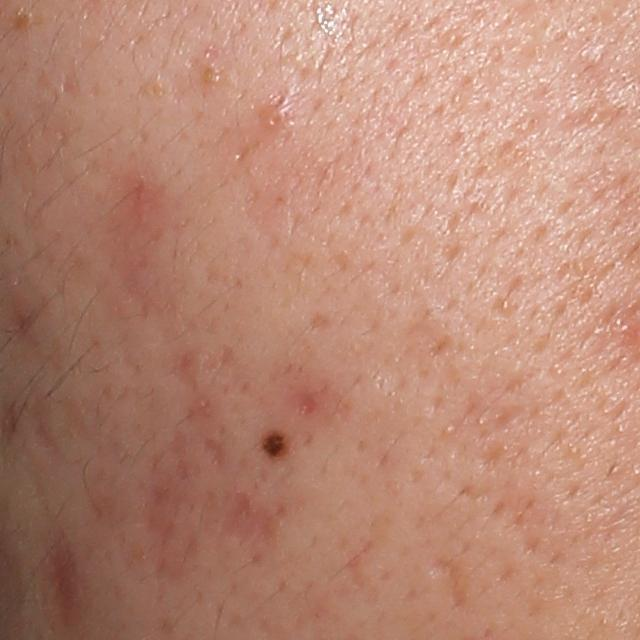atrophic_scar: (220, 487, 286, 554), (428, 556, 473, 621), (470, 436, 509, 478), (199, 342, 238, 374), (201, 434, 227, 467), (304, 311, 332, 335), (297, 390, 320, 415)
comedo: (261, 103, 291, 129)
nevus: (261, 425, 290, 461)
